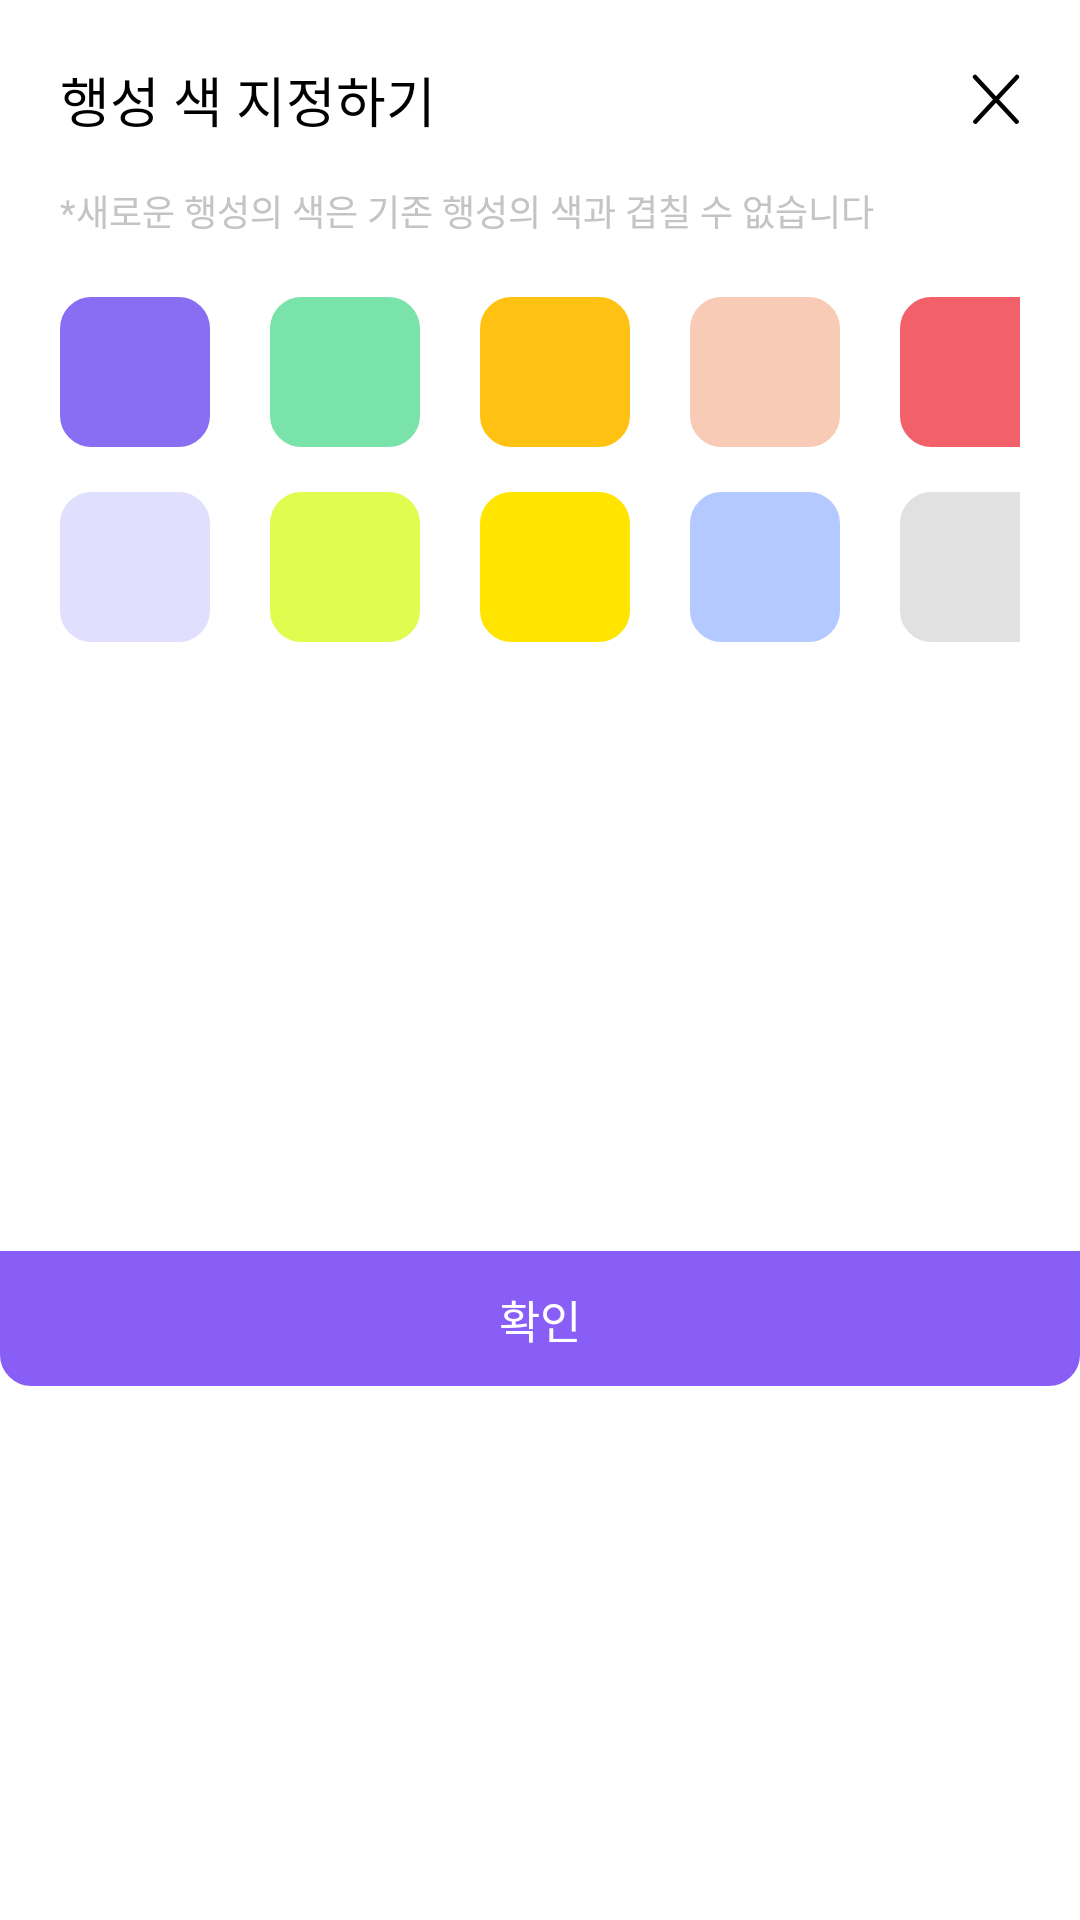

Icon bounding boxes for this 1080*1920 phone screenshot, format (x1, y1, x2, y2):
exit: (972, 74, 1020, 124)
